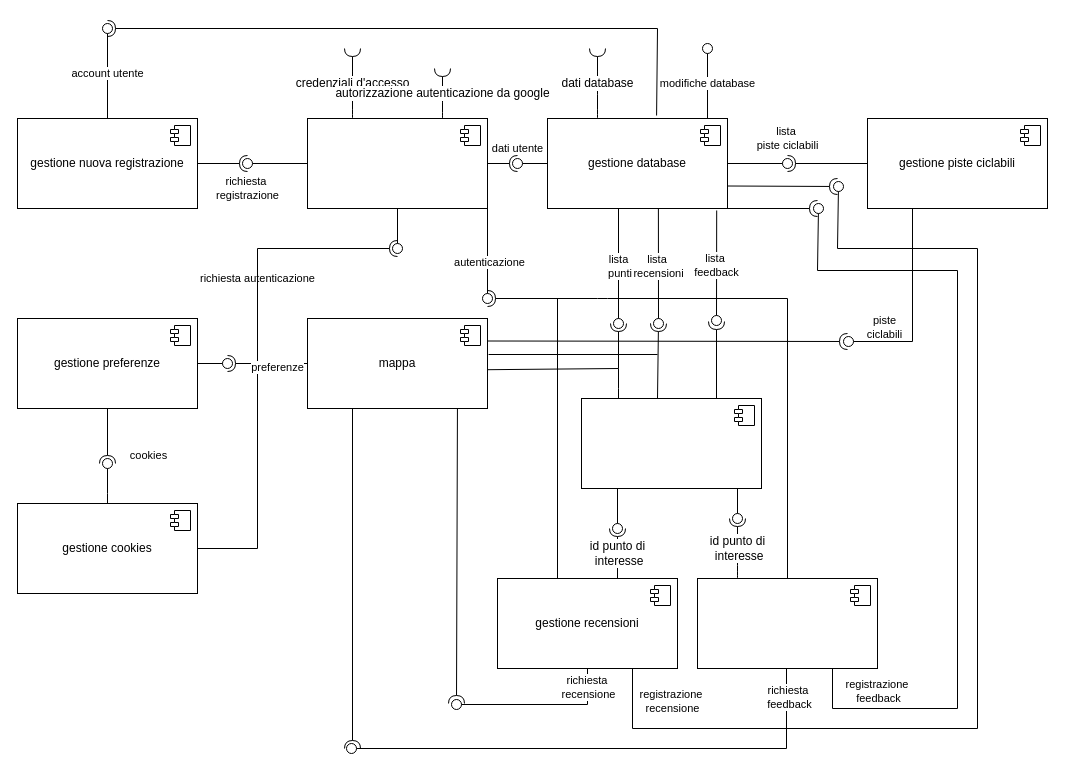
Image size: 1065x778. Some labels were removed from this diagram. Here are the shapes that lost their labels. From the top down, the centre of each, then its label:
At pixel 397 163: "gestione autenticazione".
At pixel 671 443: "sistema di ricerca punti".
At pixel 787 623: "gestione feedback".
